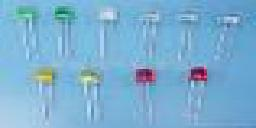LED: (13, 4, 42, 60), (132, 70, 160, 127), (186, 65, 210, 124), (31, 68, 57, 120), (174, 10, 199, 64), (137, 11, 162, 64), (212, 12, 237, 64), (77, 67, 101, 119), (51, 6, 75, 55), (95, 9, 118, 59)
